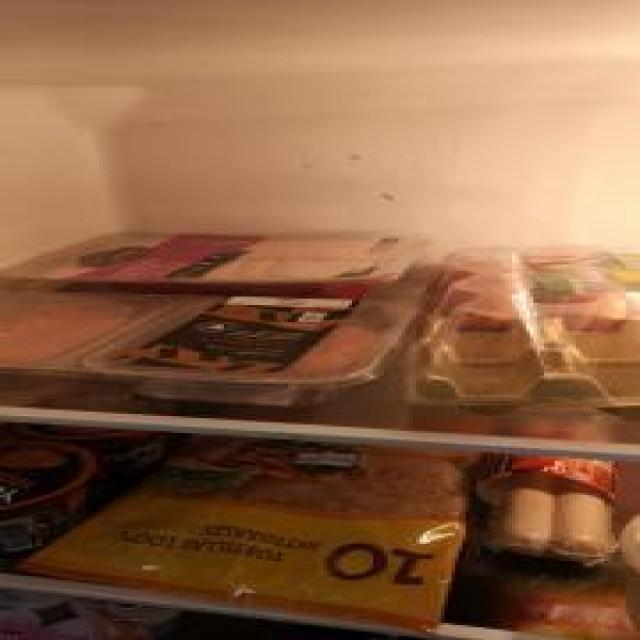sausage: (476, 454, 636, 568)
tortillas: (28, 436, 480, 639)
